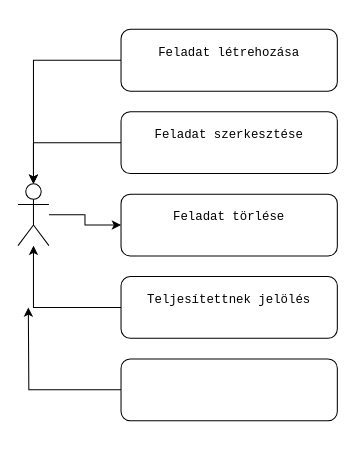
This 355x449 diagram has some shape labels left out. Here are the shapes that lost their labels. From the top down, the centre of each, then its label:
(x=33, y=214): Actor
(x=228, y=389): Feladatok megtekintése
